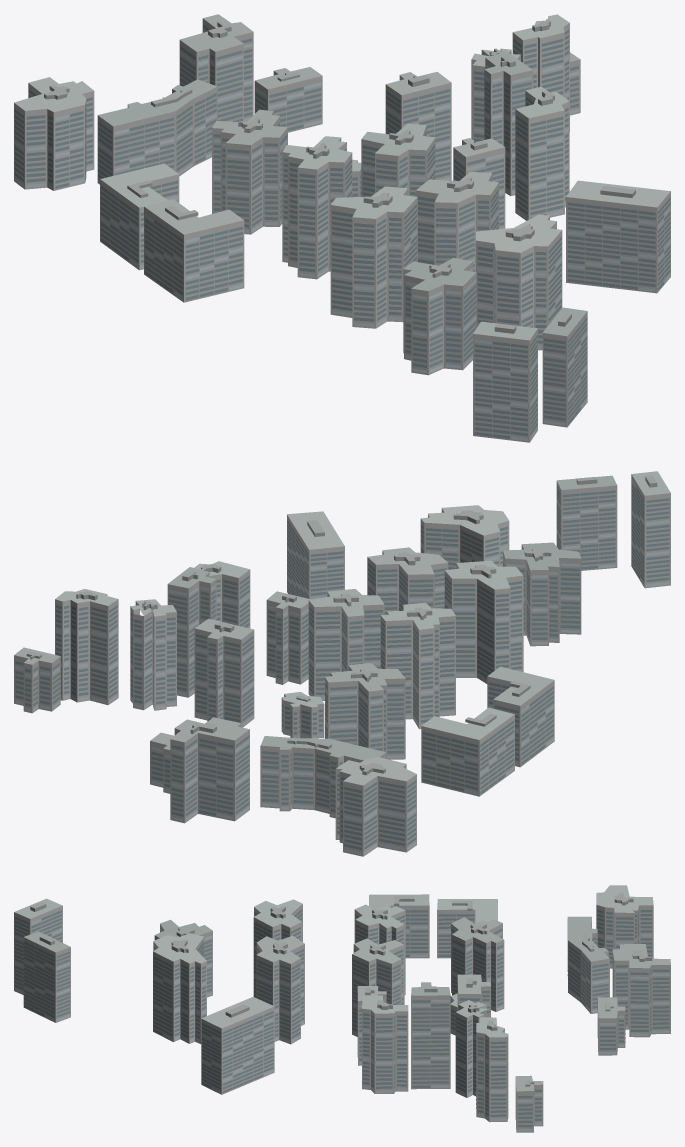
Rendered from apt-a14272314.glb.
3 views of the same model, one above another, from view 1: azimuth 30°, elevation 25°; view 2: azimuth 150°, elevation 25°; view 3: azimuth 270°, elevation 25° (orthographic). The views are drawn at different scales.
Visible parts, largest first — view 1: apt-a14272314; view 2: apt-a14272314; view 3: apt-a14272314.
Part boxes in pixels (x1,y1,x2,y2): apt-a14272314: (14, 14, 670, 442); apt-a14272314: (14, 471, 670, 856); apt-a14272314: (14, 885, 670, 1132).
Size of the model in its own units: 277 by 67 by 412.
